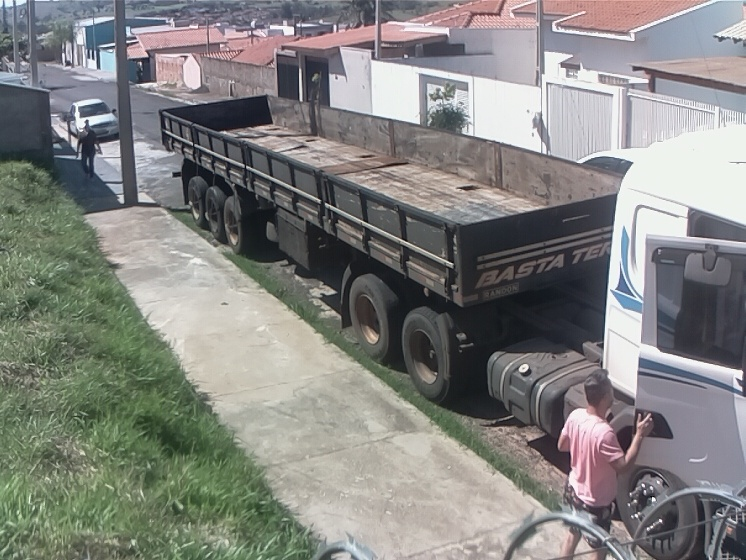person: (555, 367, 658, 560), (74, 119, 103, 183)
